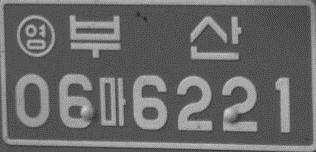0: (14, 72, 50, 128)
1: (266, 76, 300, 132)
2: (176, 74, 214, 132), (221, 75, 259, 133)
6: (57, 72, 95, 130), (131, 73, 168, 130)
마: (98, 77, 127, 127)
부산_D: (69, 13, 242, 60)
영: (15, 14, 55, 58)
